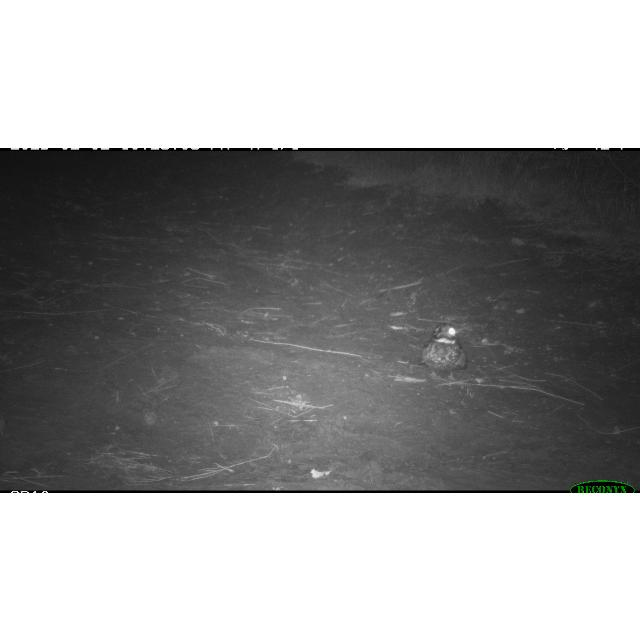animals: (420, 322, 468, 382)
